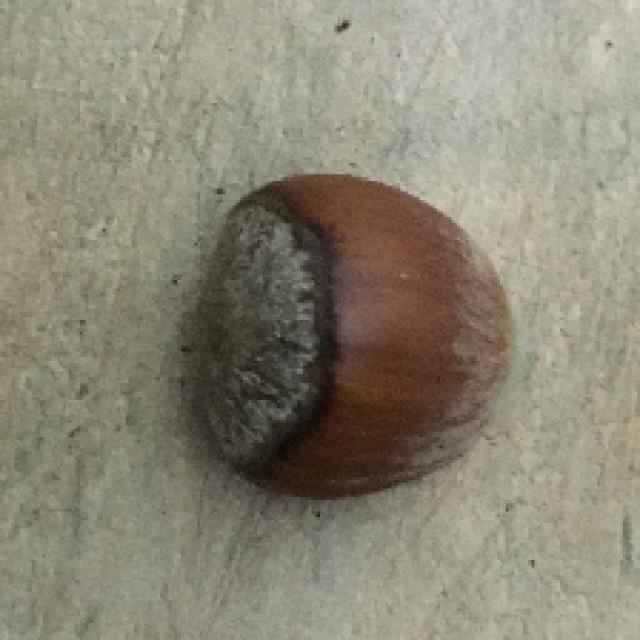qualityHazelnut: (170, 161, 520, 518)
